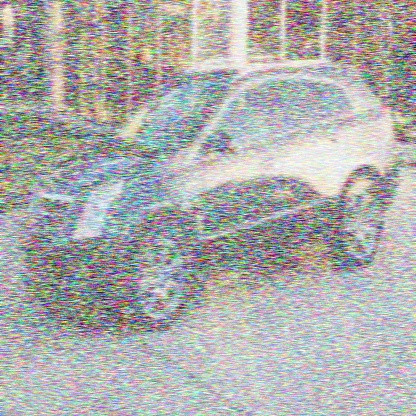Vehicle: (20, 57, 399, 334)
